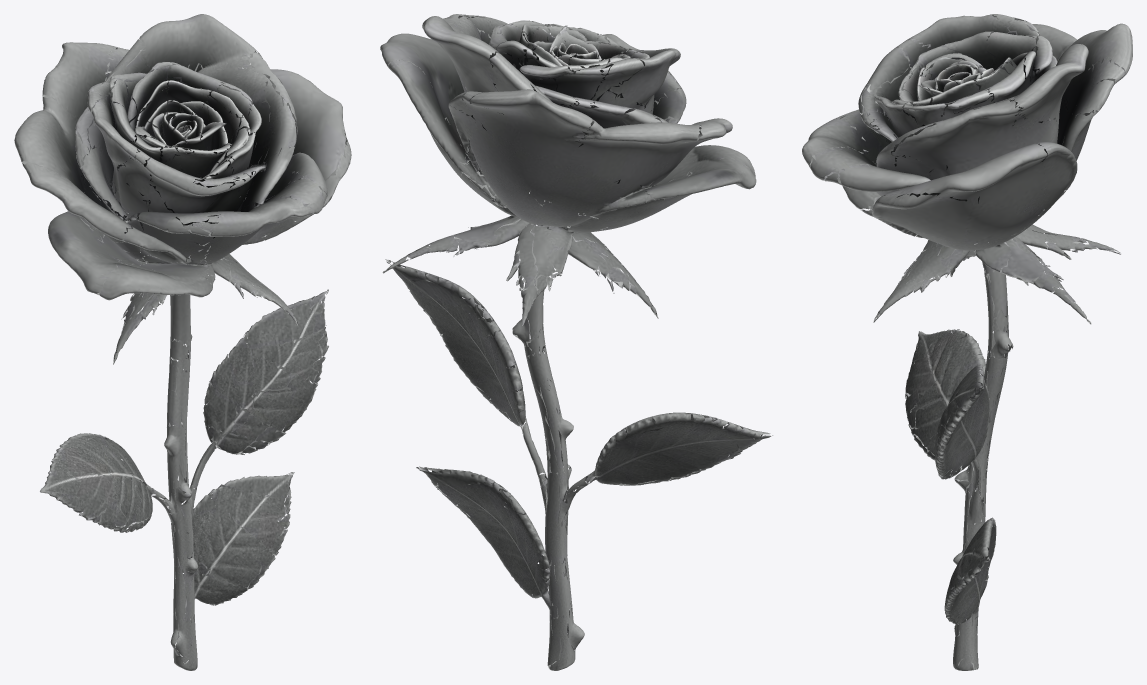
File: rose.glb
3 views of the same model, side by side, from view 1: azimuth 30°, elevation 25°; view 2: azimuth 150°, elevation 25°; view 3: azimuth 270°, elevation 25° (orthographic). The views are drawn at different scales.
Bounding box in the file's own units: 1.07 × 1.9 × 0.8935.
1 material, 1 textured.
